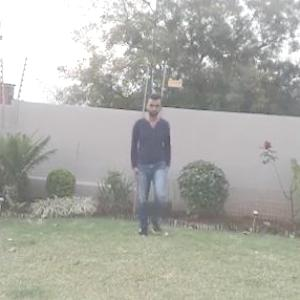follow: (129, 90, 178, 244)
